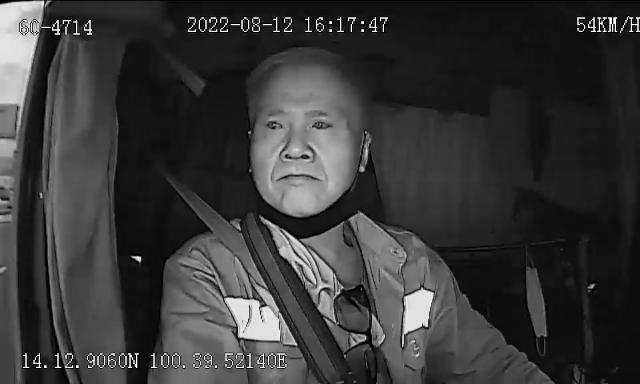SafeDriving: (302, 110, 340, 136), (258, 110, 292, 138)
Seatbelt: (166, 177, 356, 364)
